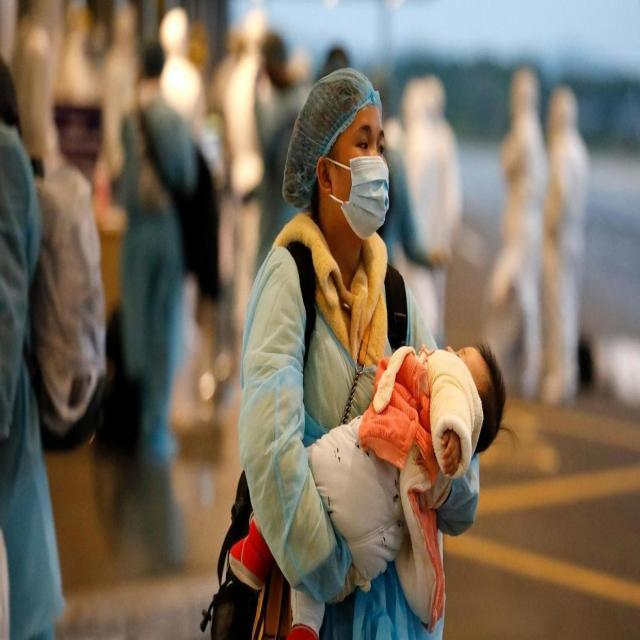face: (329, 91, 391, 242), (446, 339, 496, 404)
